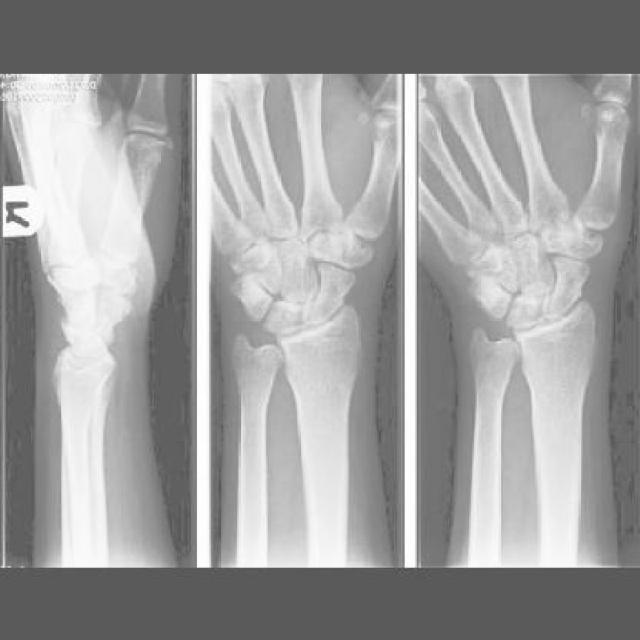Fracture: (557, 214, 605, 254), (97, 253, 140, 293), (331, 226, 373, 266)
